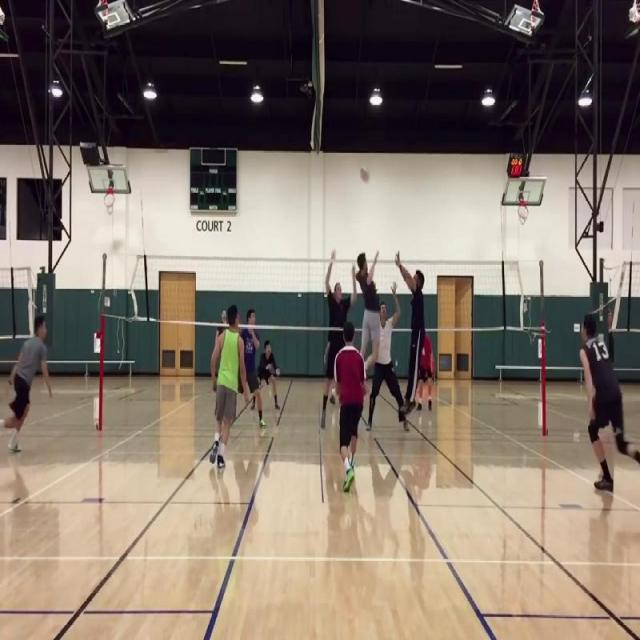volleyball: (360, 166, 370, 183)
